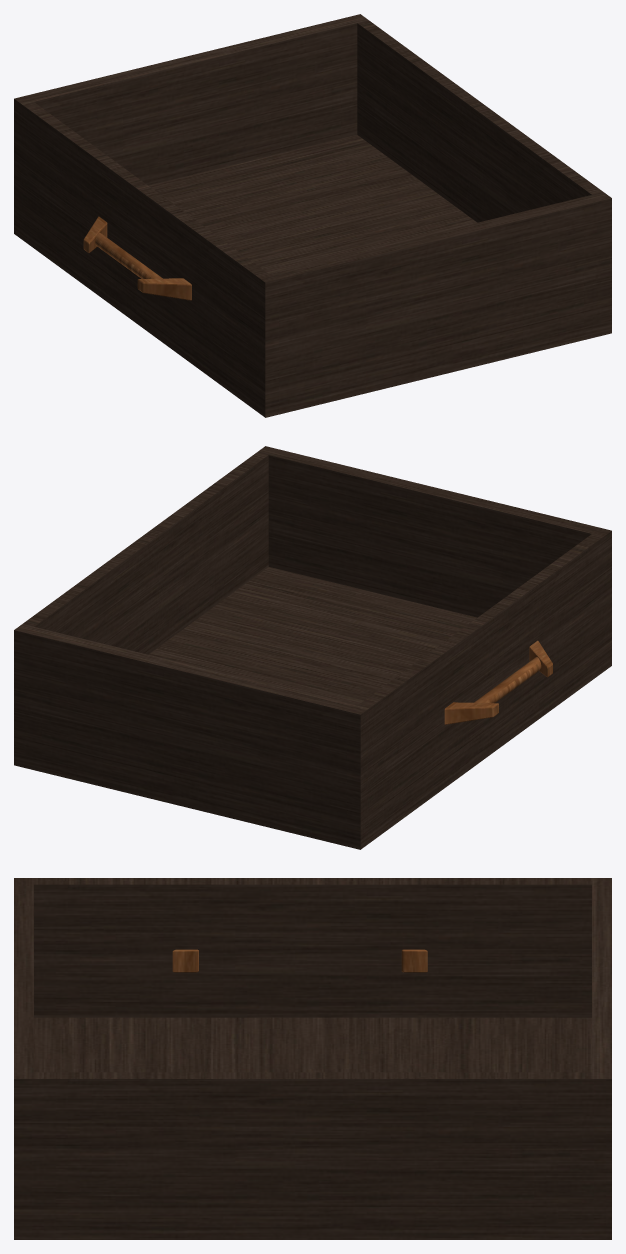
The model's file is полкаФ.fbx.
3 views of the same model, one above another, from view 1: azimuth 30°, elevation 25°; view 2: azimuth 150°, elevation 25°; view 3: azimuth 270°, elevation 25° (orthographic). The views are drawn at different scales.
Visible parts, largest first — view 1: Cube.001; view 2: Cube.001; view 3: Cube.001.
Part boxes in pixels (x1,y1,x2,y2): Cube.001: [14, 14, 611, 417]; Cube.001: [14, 446, 611, 849]; Cube.001: [14, 878, 611, 1239].
Bounding box in the file's own units: 119 × 40.48 × 136.
